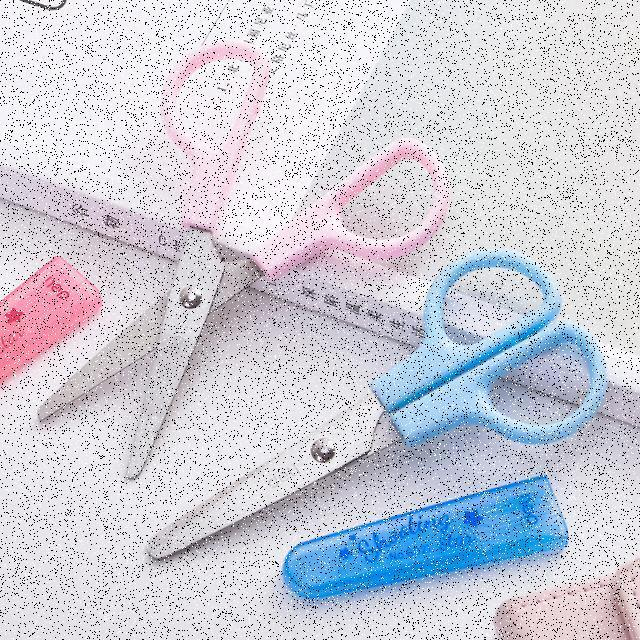scissors: (12, 28, 469, 503), (106, 237, 618, 593)
